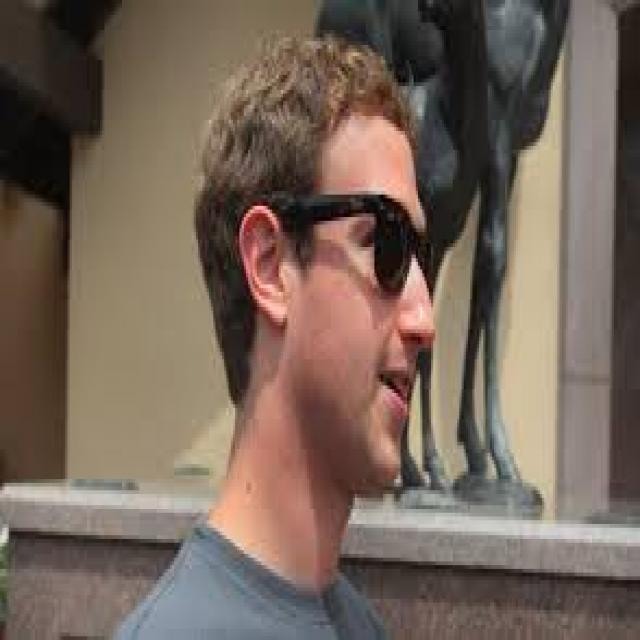Glasses: (290, 176, 440, 303)
